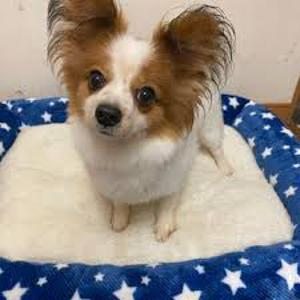yell: (46, 1, 234, 242)
